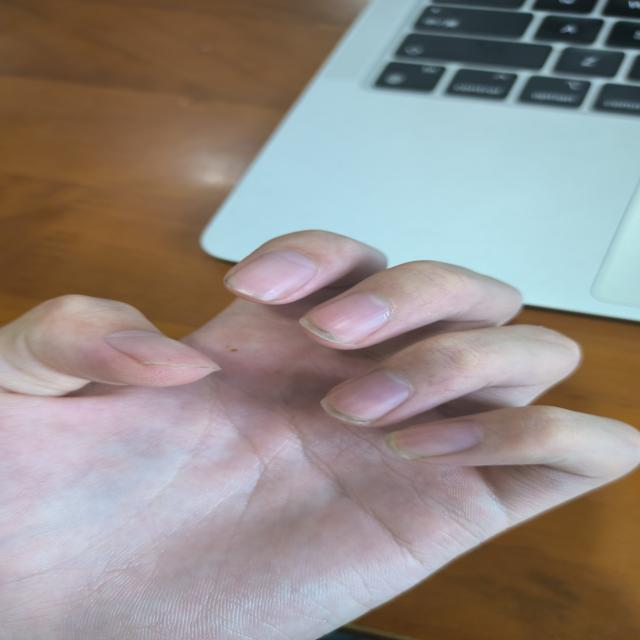Nail: (321, 369, 415, 424), (299, 292, 392, 344), (225, 251, 318, 301), (107, 331, 220, 369), (384, 420, 486, 460)
